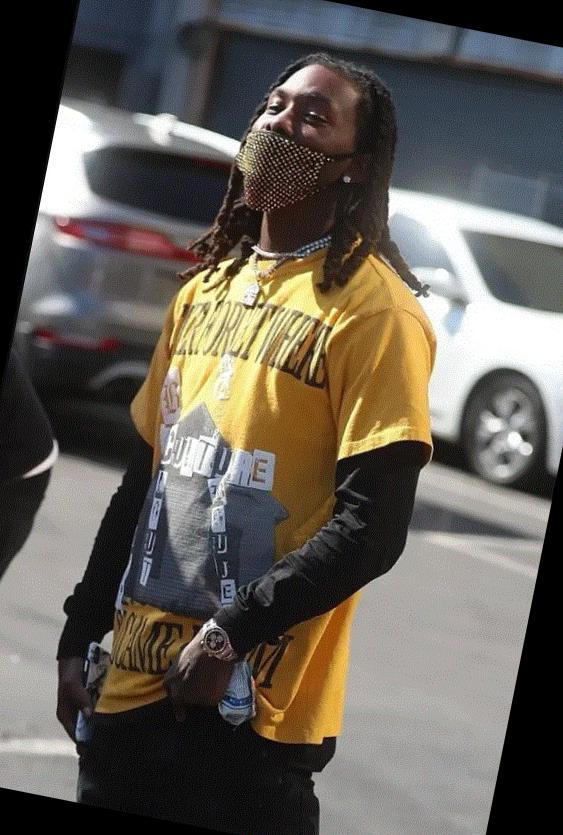mask_weared_incorrect: (232, 75, 355, 185)
